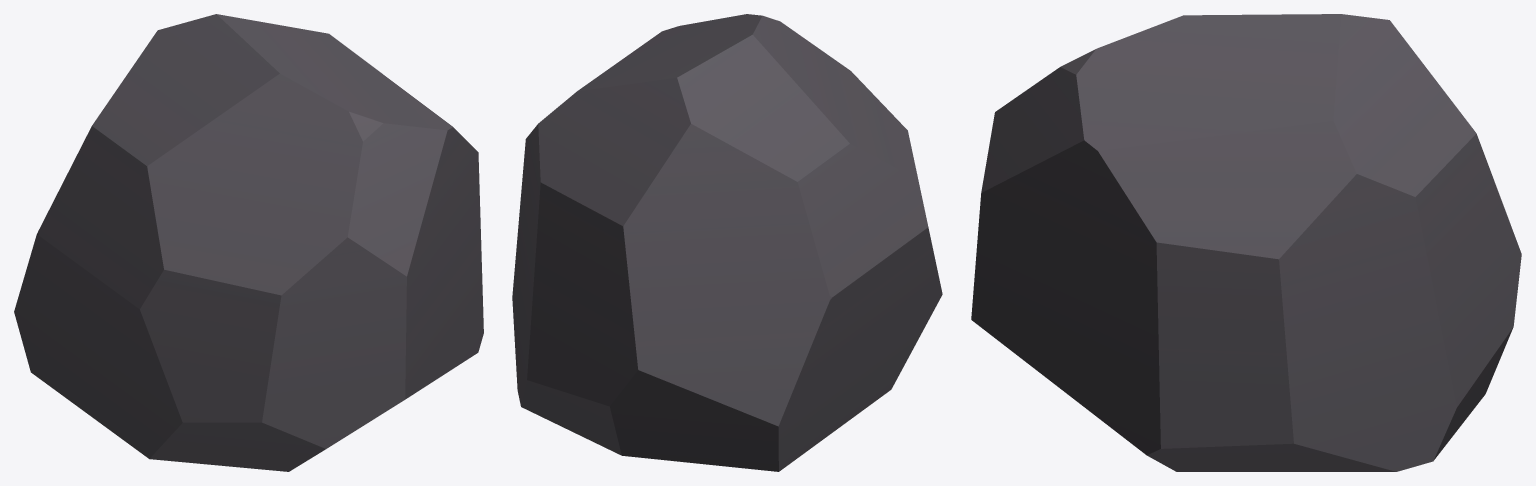
The model's file is Rock_02.fbx.
The picture shows the model from 3 angles, left to right: view 1: azimuth 30°, elevation 25°; view 2: azimuth 150°, elevation 25°; view 3: azimuth 270°, elevation 25°; orthographic projection. The views are drawn at different scales.
Visible parts, largest first — view 1: Rock_02_LOD0; view 2: Rock_02_LOD0; view 3: Rock_02_LOD0.
Boxes of the visible parts, x1=… form: Rock_02_LOD0: x1=14, y1=14, x2=483, y2=471; Rock_02_LOD0: x1=512, y1=14, x2=942, y2=471; Rock_02_LOD0: x1=971, y1=14, x2=1521, y2=471.
Size of what is drawn, in the model's own units: 73.38 by 67.32 by 86.85.
